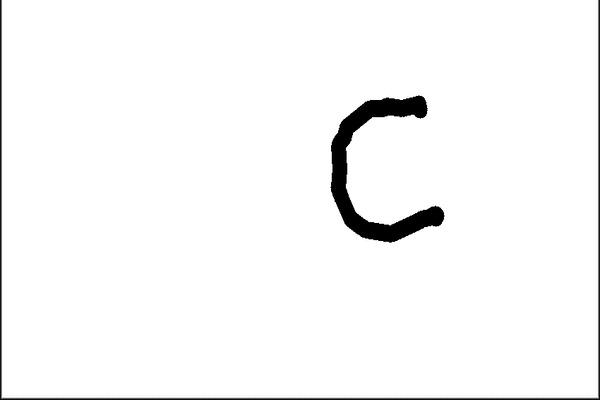C: (322, 88, 448, 245)
